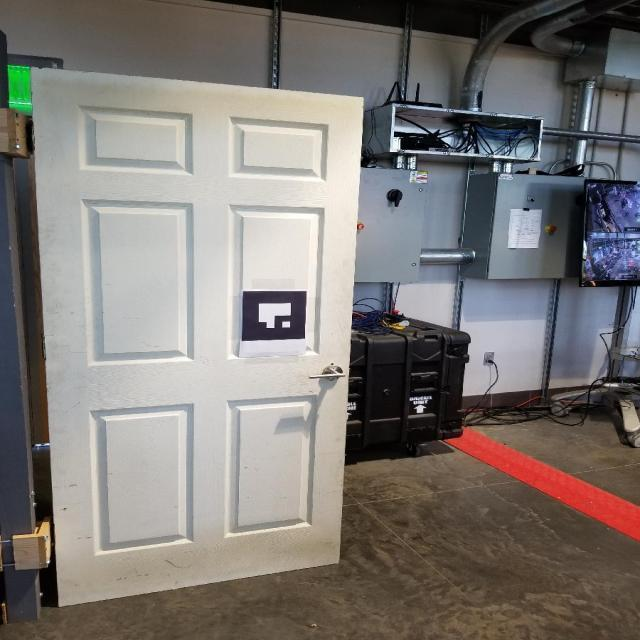door: (23, 57, 370, 608), (306, 364, 346, 381)
